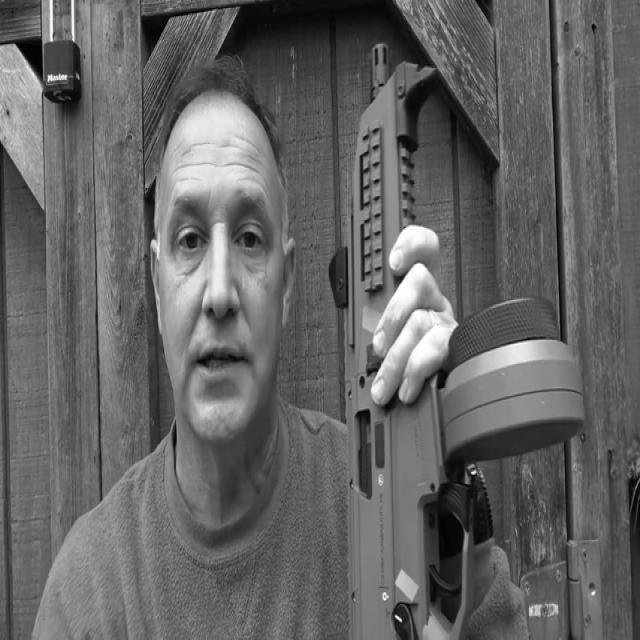Sub-machine-gun: (298, 0, 626, 640)
